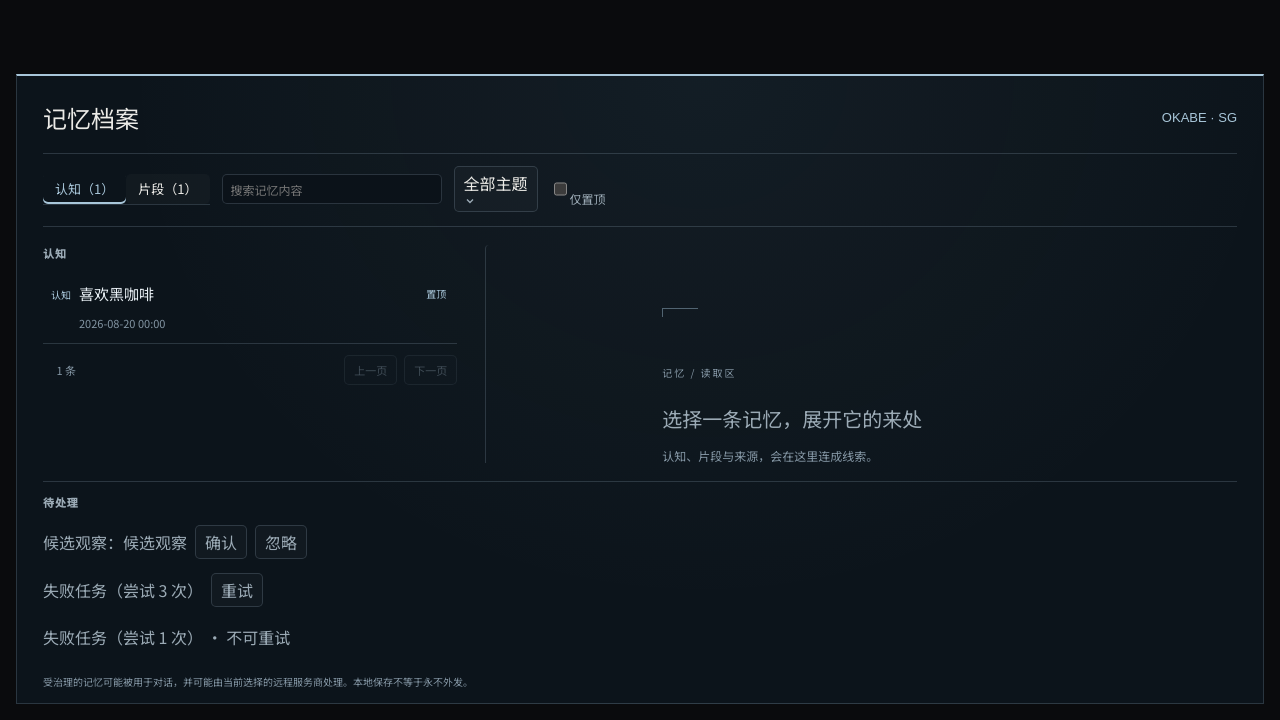
Test: ArchiveView list and reading › kind tabs really switch panels: only the active kind list renders
expect the text "喜欢黑咖啡" is shown: met, box [79, 283, 154, 304]
expect the panel with test id "archive-facts-section" is shown: met, box [43, 245, 457, 384]
Click the tab with test id "archive-tab-experience".
click(168, 188)  # box [126, 174, 210, 204]
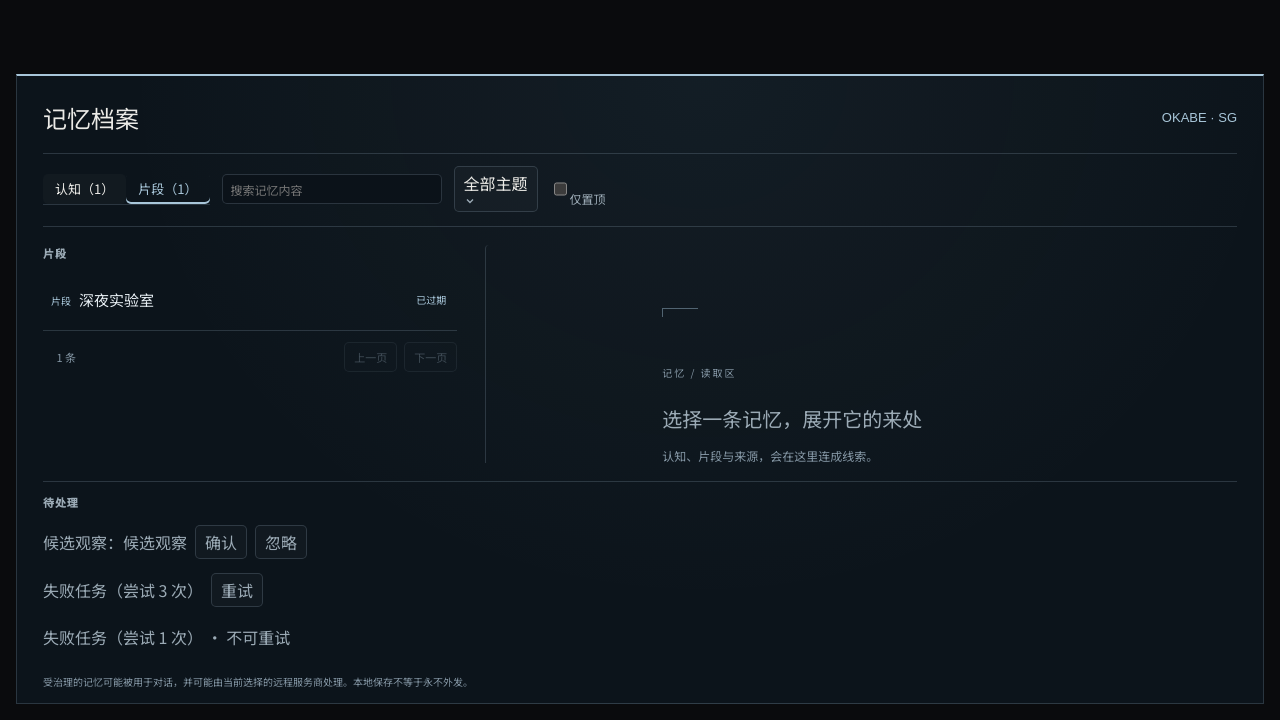
expect the text "深夜实验室" is shown: met, box [79, 289, 154, 310]
expect the panel with test id "archive-experiences-section" is shown: met, box [43, 245, 457, 372]
expect the panel with test id "archive-facts-section" is gone: met
# Switching back keeps the committed per-kind Archive state.
Click the tab with test id "archive-tab-fact".
click(85, 188)  # box [43, 174, 126, 204]
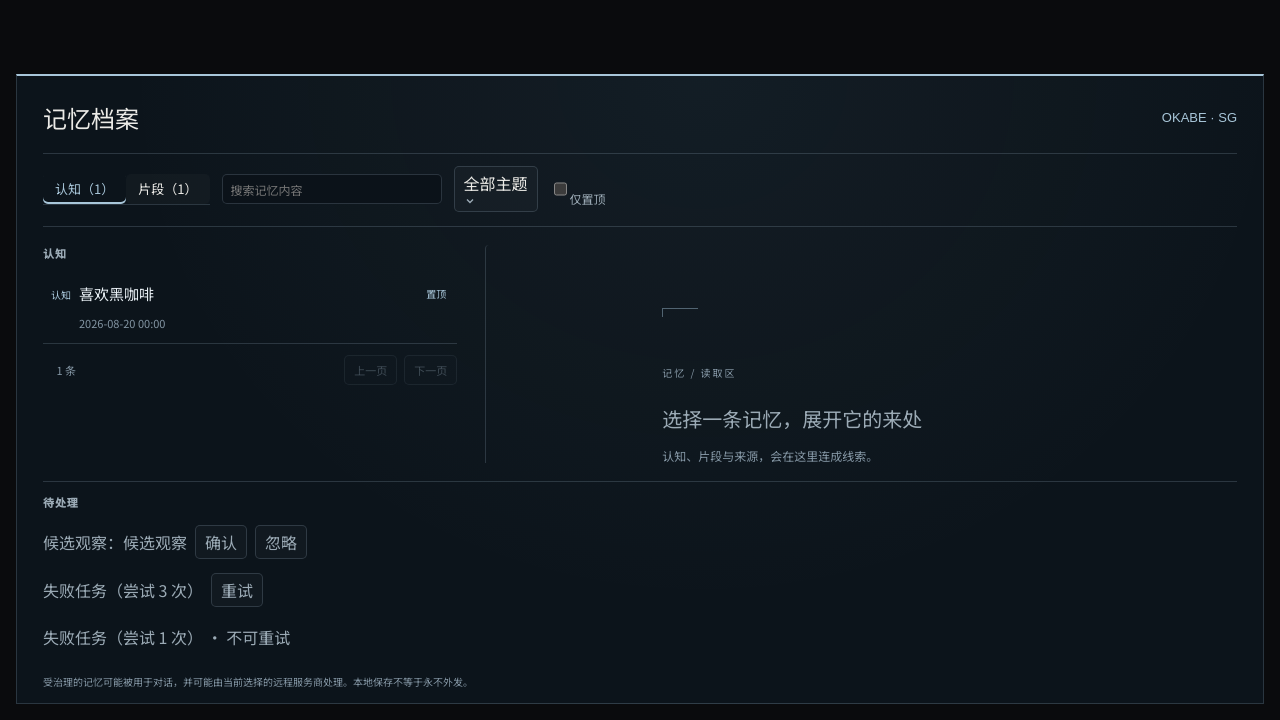
expect the text "喜欢黑咖啡" is shown: met, box [79, 283, 154, 304]
expect the panel with test id "archive-experiences-section" is gone: met
